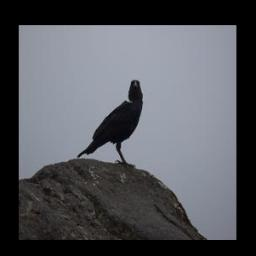Crow: (77, 78, 145, 166)
